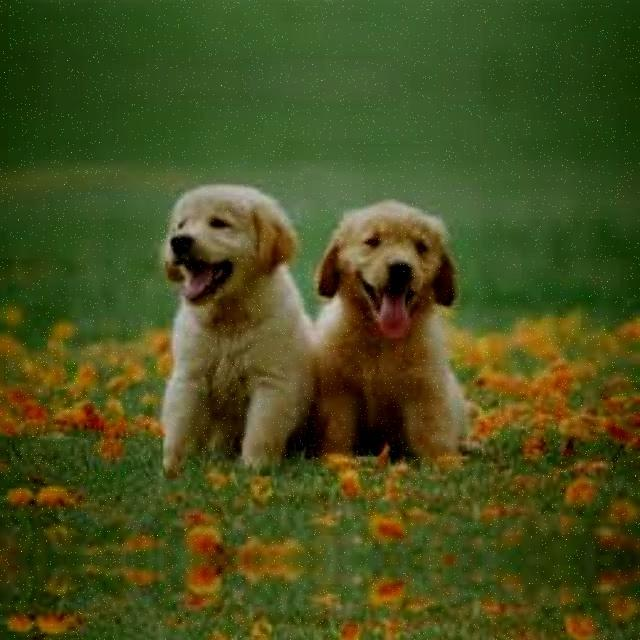dog: (140, 183, 306, 482), (310, 194, 472, 466), (140, 637, 306, 640)
